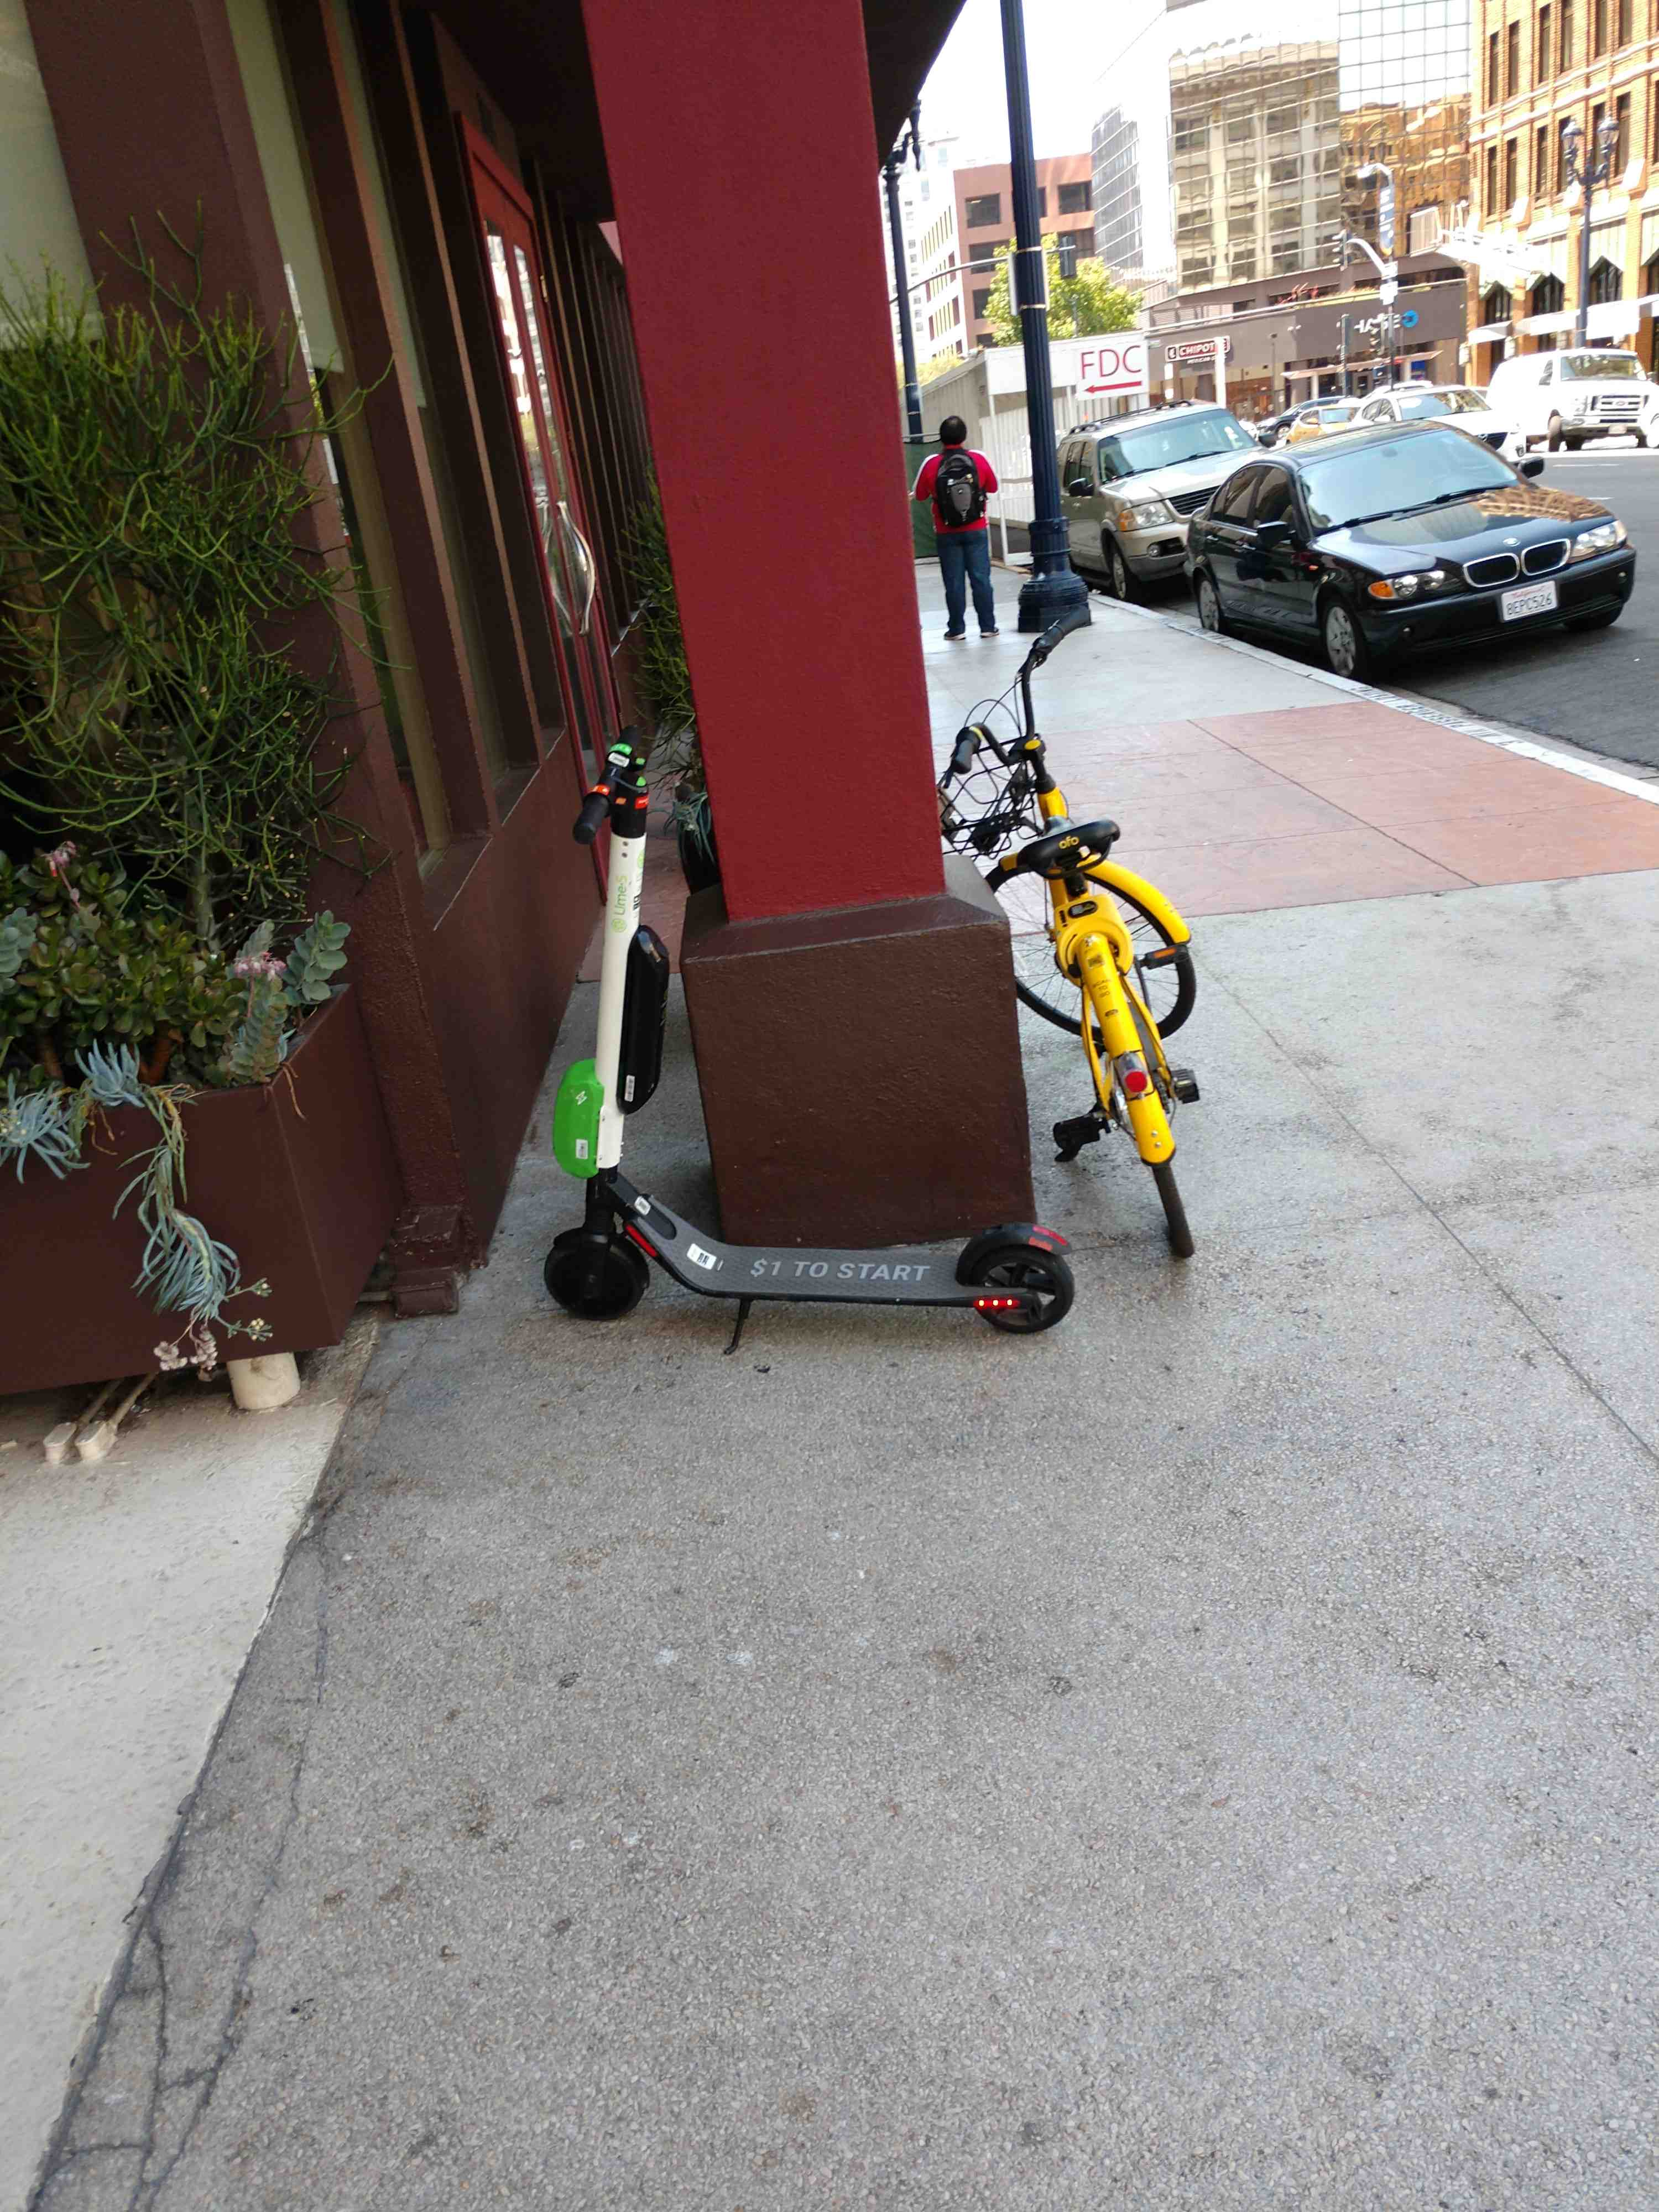scooter: (777, 448, 1363, 1097)
